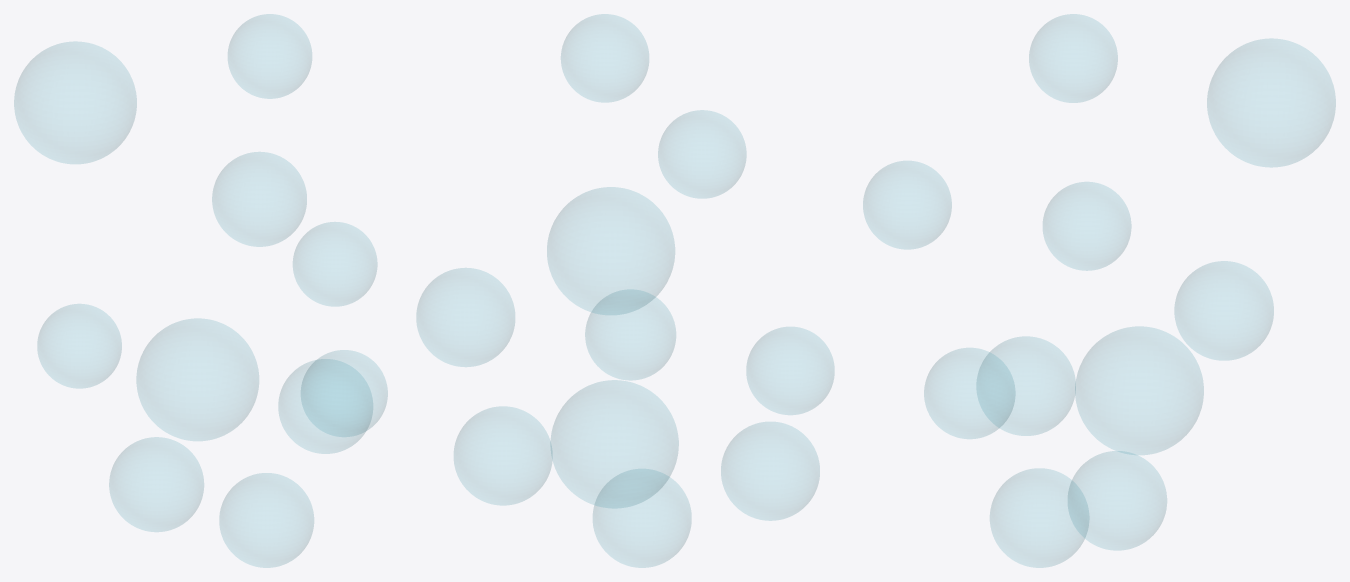
File: babl.gltf
The picture shows the model from 3 angles, left to right: view 1: azimuth 30°, elevation 25°; view 2: azimuth 150°, elevation 25°; view 3: azimuth 270°, elevation 25°; orthographic projection. The views are drawn at different scales.
Parts seen in each view (by area): view 1: Сфера.007, Сфера.001, Сфера.006, Сфера.005, Сфера, Сфера.002, Сфера.003, Сфера.004, Сфера.009, Сфера.008; view 2: Сфера.001, Сфера.007, Сфера.006, Сфера.005, Сфера.002, Сфера, Сфера.003, Сфера.004, Сфера.008, Сфера.009; view 3: Сфера.001, Сфера.007, Сфера.005, Сфера.002, Сфера, Сфера.006, Сфера.003, Сфера.009, Сфера.004, Сфера.008.
Part boxes in pixels (box(x1,y1,x2,y2)): Сфера.007: box(14, 41, 136, 163); Сфера.001: box(136, 318, 258, 440); Сфера.006: box(109, 437, 203, 531); Сфера.005: box(212, 152, 306, 246); Сфера: box(219, 473, 313, 567); Сфера.002: box(278, 359, 372, 453); Сфера.003: box(301, 350, 387, 436); Сфера.004: box(37, 304, 121, 388); Сфера.009: box(228, 14, 311, 98); Сфера.008: box(293, 222, 377, 306); Сфера.001: box(550, 380, 678, 508); Сфера.007: box(547, 187, 674, 314); Сфера.006: box(721, 422, 819, 520); Сфера.005: box(416, 268, 514, 366); Сфера.002: box(454, 406, 551, 505); Сфера: box(593, 469, 691, 567); Сфера.003: box(585, 290, 675, 380); Сфера.004: box(746, 327, 834, 414); Сфера.008: box(658, 110, 746, 198); Сфера.009: box(561, 14, 648, 102); Сфера.001: box(1075, 326, 1203, 454); Сфера.007: box(1207, 38, 1335, 167); Сфера.005: box(1174, 261, 1273, 360); Сфера.002: box(1068, 451, 1166, 550); Сфера: box(990, 468, 1088, 567); Сфера.006: box(977, 336, 1075, 435); Сфера.003: box(924, 348, 1015, 438); Сфера.009: box(1029, 14, 1117, 102); Сфера.004: box(1043, 182, 1131, 270); Сфера.008: box(863, 161, 951, 249).
Size of the model in its own units: 8.21 by 12.27 by 9.47.
